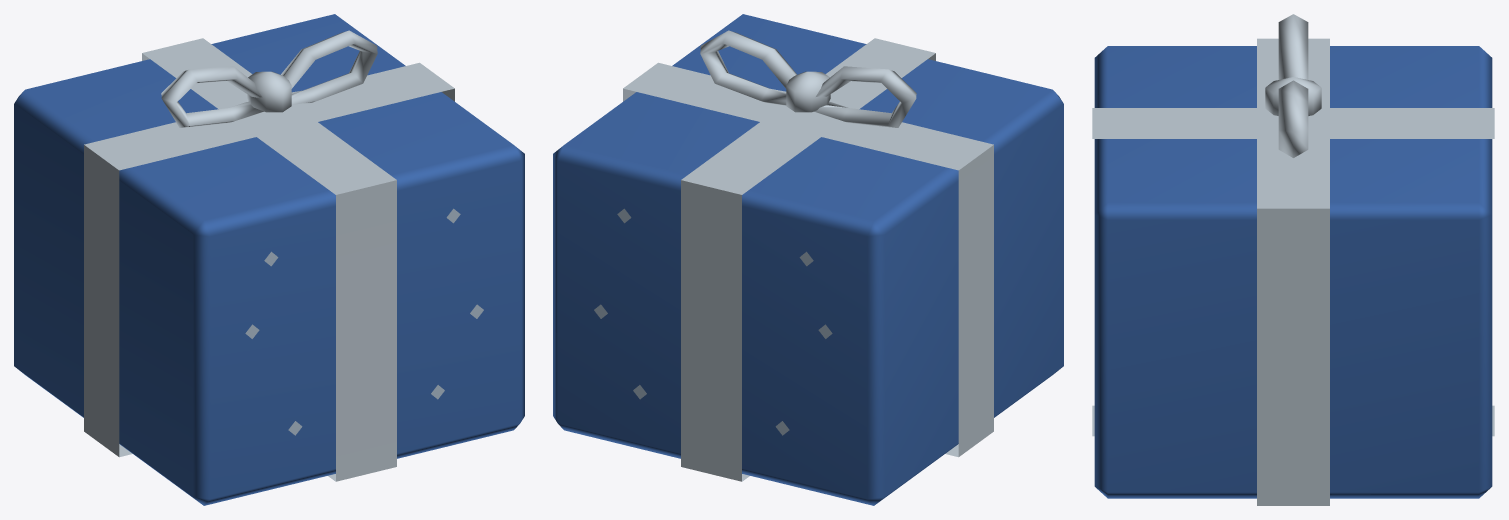
File: cargo_present_blue.glb
The picture shows the model from 3 angles, left to right: view 1: azimuth 30°, elevation 25°; view 2: azimuth 150°, elevation 25°; view 3: azimuth 270°, elevation 25°; orthographic projection. The views are drawn at different scales.
Visible parts, largest first — view 1: cargo_present_blue; view 2: cargo_present_blue; view 3: cargo_present_blue.
Boxes of the visible parts, box(x1,y1,x2,y2) form: cargo_present_blue: box(14, 14, 524, 505); cargo_present_blue: box(553, 14, 1063, 505); cargo_present_blue: box(1092, 14, 1494, 505).
Size of the model in its own units: 0.516 by 0.5189 by 0.516.
